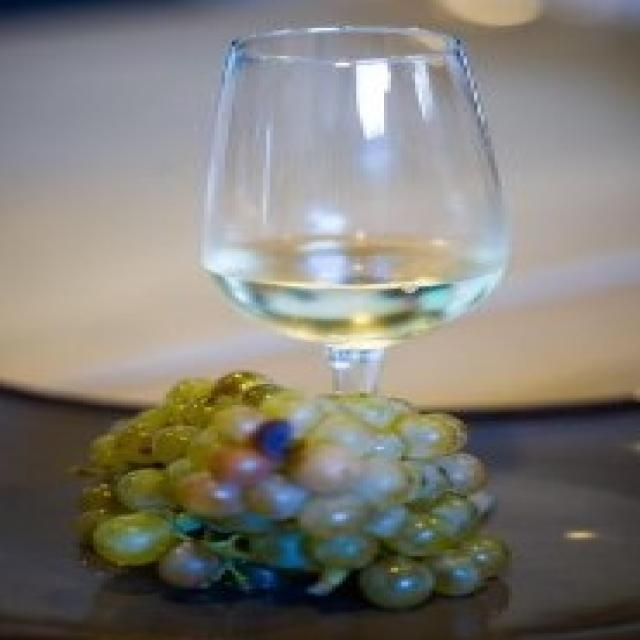electronic: (202, 27, 517, 397)
